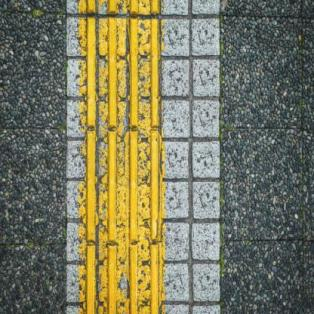Podoctatil: (80, 0, 165, 313)
